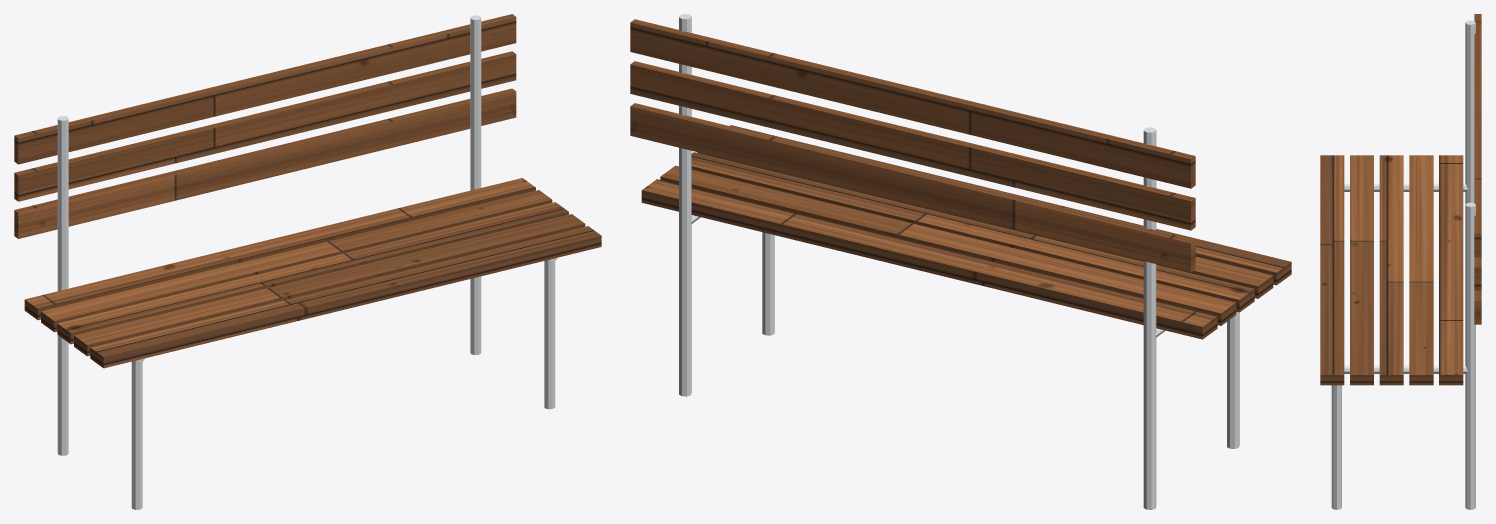
Rendered from bench_office.glb.
3 renders of one model, left to right at view 1: azimuth 30°, elevation 25°; view 2: azimuth 150°, elevation 25°; view 3: azimuth 270°, elevation 25°, orthographic. The views are drawn at different scales.
Parts seen in each view (by area): view 1: bench_office_teak, bench_office_chrome; view 2: bench_office_teak, bench_office_chrome; view 3: bench_office_teak, bench_office_chrome.
Boxes of the visible parts, x1,y1,x2,y2 form: bench_office_teak: [14, 14, 601, 368]; bench_office_chrome: [57, 15, 557, 509]; bench_office_teak: [630, 19, 1291, 339]; bench_office_chrome: [679, 14, 1239, 509]; bench_office_teak: [1320, 14, 1481, 385]; bench_office_chrome: [1331, 20, 1475, 509].
Bounding box in the file's own units: 1.4 × 0.9 × 0.435.
Materials: 2 (1 with a texture image).
